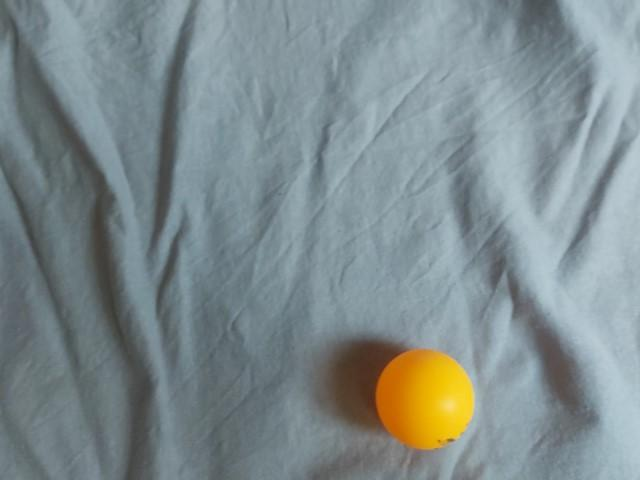oball: (154, 24, 276, 141)
